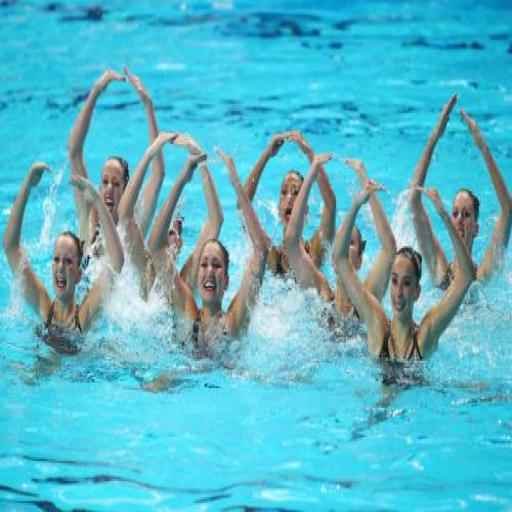swimming: (329, 160, 477, 384), (2, 156, 126, 360), (405, 93, 511, 295), (237, 127, 336, 288)
